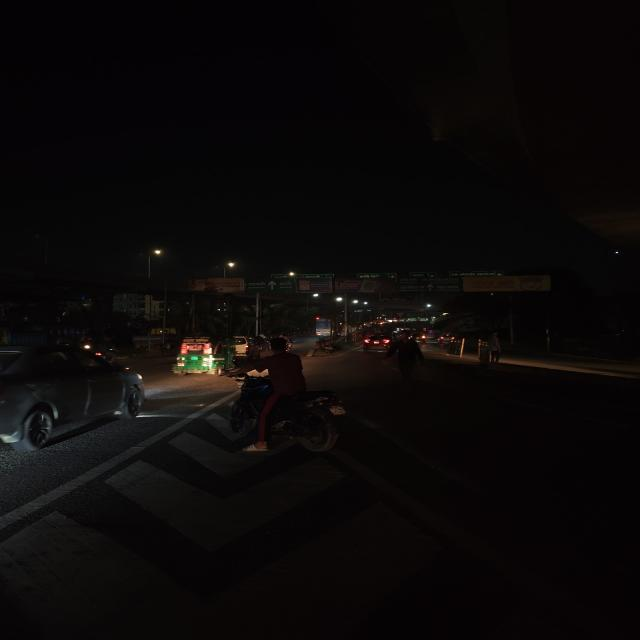car: (0, 341, 149, 456), (359, 332, 394, 353)
cng: (169, 337, 227, 377)
pedestrian: (488, 330, 503, 366)
rickshaw: (207, 341, 350, 459)
truck: (313, 317, 335, 339)
